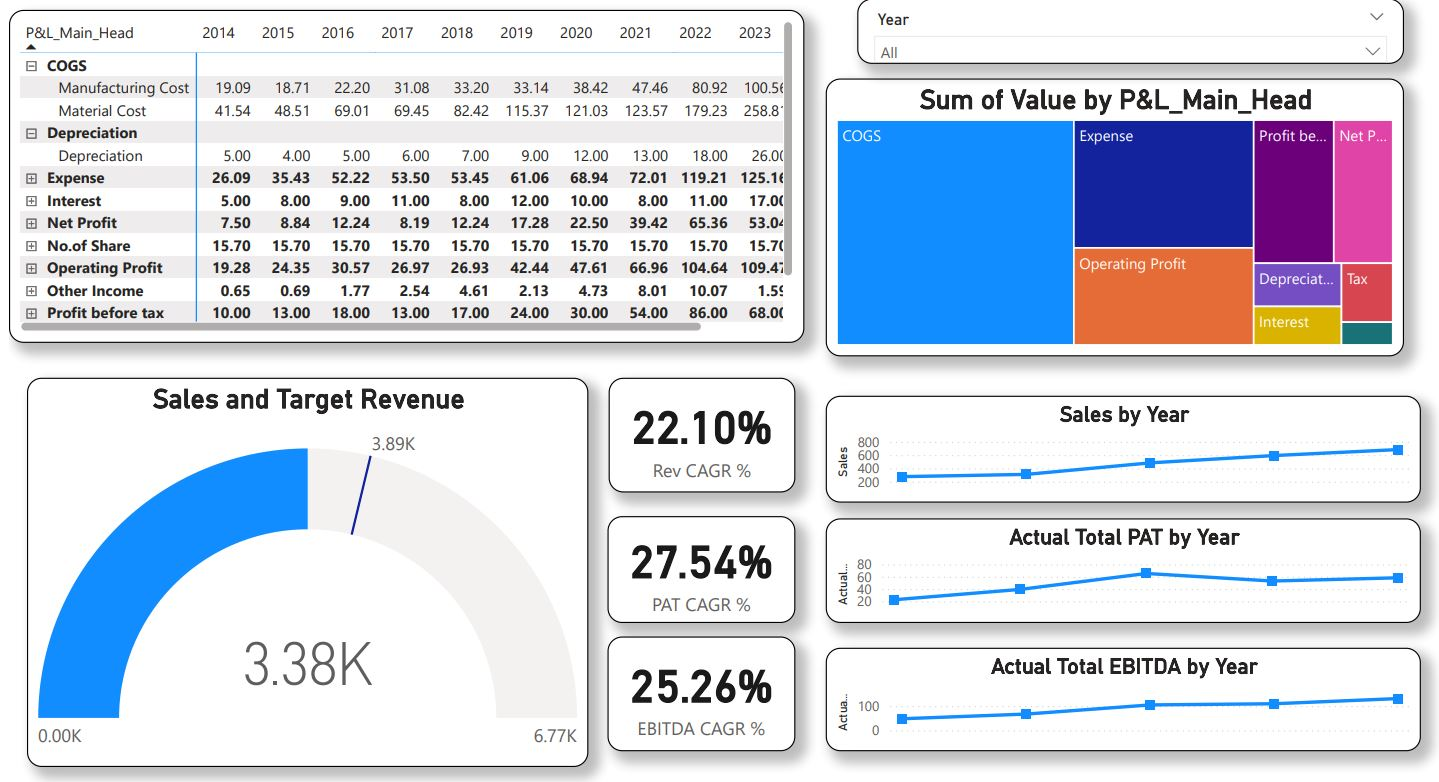

The page's visual inventory and layout, read from the dashboard file:
{"tool":"powerbi","page":{"name":"Income Statement","canvas":[1280,720],"ordinal":3},"visuals":[{"type":"pivotTable","fields":{"Rows":["P&L Dim.P&L_Main_Head","P&L Dim.P&L_Sub_Head"],"Columns":["Date Dim.Year"],"Values":["Sum(P&L Fact.Value)"]},"box":[0,22.9,707,295.6],"z":0},{"type":"treemap","fields":{"Group":["P&L Dim.P&L_Main_Head"],"Values":["Sum(P&L Fact.Value)"]},"box":[726.3,84.5,513.9,246.1],"z":1000},{"type":"gauge","fields":{"Y":["P&L Fact.Sales"],"TargetValue":["P&L Fact.Target Revenue"]},"box":[15.7,349.9,499.5,346.2],"z":2000},{"type":"card","fields":{"Values":["P&L Fact.Rev CAGR %"]},"box":[533.2,349.9,165.3,102.5],"z":3000},{"type":"card","fields":{"Values":["P&L Fact.PAT CAGR %"]},"box":[532,472.9,166.5,95.3],"z":4000},{"type":"card","fields":{"Values":["P&L Fact.EBITDA CAGR %"]},"box":[532,580.3,166.5,101.3],"z":5000},{"type":"lineChart","fields":{"Category":["Date Dim.Date.Variation.Date Hierarchy.Year"],"Y":["P&L Fact.Sales"]},"box":[726.3,365.6,528.4,95.3],"z":6000},{"type":"lineChart","fields":{"Category":["Date Dim.Date.Variation.Date Hierarchy.Year"],"Y":["P&L Fact.Actual Total PAT"]},"box":[726.3,475.3,528.4,92.9],"z":7000},{"type":"lineChart","fields":{"Category":["Date Dim.Date.Variation.Date Hierarchy.Year"],"Y":["P&L Fact.Actual Total EBITDA"]},"box":[726.3,589.9,528.4,91.7],"z":8000},{"type":"slicer","fields":{"Values":["Date Dim.Date.Variation.Date Hierarchy.Year"]},"box":[754,13.3,486.2,57.9],"z":9000}]}

Visuals, with their boxes in screenshot pixels (x1, y1, x2, y2):
pivotTable - P&L Dim.P&L_Main_Head x P&L Dim.P&L_Sub_Head: [left=11, top=10, right=798, bottom=339]
treemap - P&L Dim.P&L_Main_Head x Sum(P&L Fact.Value): [left=819, top=79, right=1391, bottom=353]
gauge - P&L Fact.Sales x P&L Fact.Target Revenue: [left=29, top=374, right=584, bottom=759]
card - P&L Fact.Rev CAGR %: [left=604, top=374, right=788, bottom=488]
card - P&L Fact.PAT CAGR %: [left=603, top=511, right=788, bottom=617]
card - P&L Fact.EBITDA CAGR %: [left=603, top=630, right=788, bottom=743]
lineChart - Date Dim.Date.Variation.Date Hierarchy.Year x P&L Fact.Sales: [left=819, top=392, right=1407, bottom=498]
lineChart - Date Dim.Date.Variation.Date Hierarchy.Year x P&L Fact.Actual Total PAT: [left=819, top=514, right=1407, bottom=617]
lineChart - Date Dim.Date.Variation.Date Hierarchy.Year x P&L Fact.Actual Total EBITDA: [left=819, top=641, right=1407, bottom=743]
slicer - Date Dim.Date.Variation.Date Hierarchy.Year: [left=850, top=0, right=1391, bottom=64]
